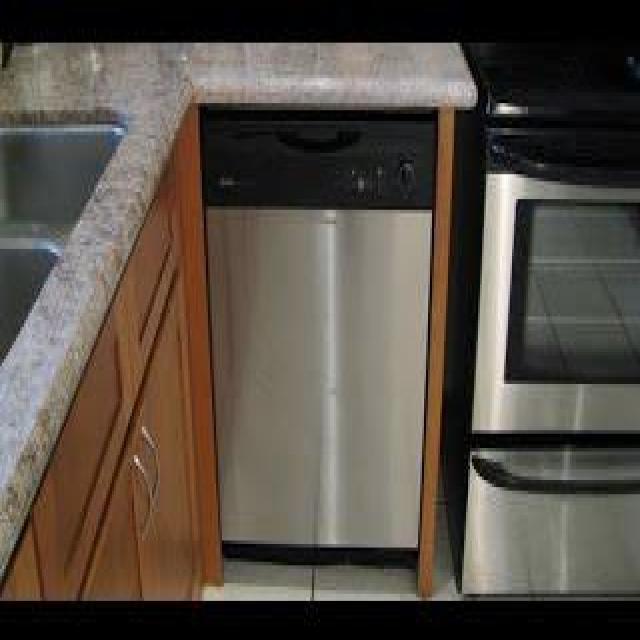dishwasher: (207, 96, 443, 571)
